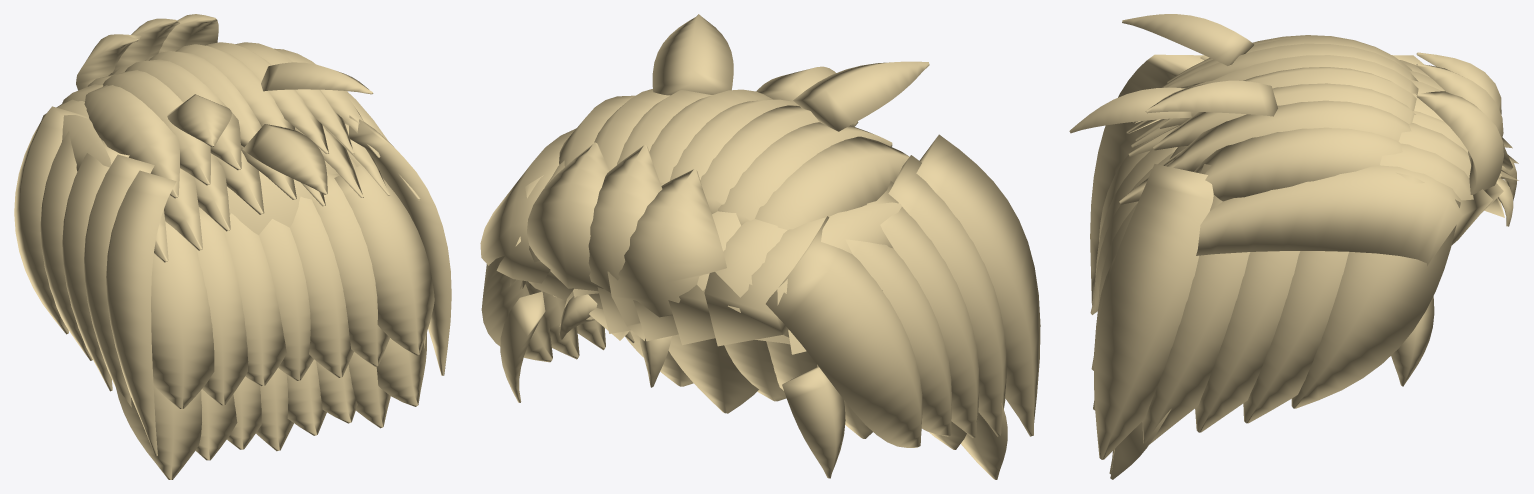
The model's file is rhyman_hair.fbx.
The picture shows the model from 3 angles, left to right: view 1: azimuth 30°, elevation 25°; view 2: azimuth 150°, elevation 25°; view 3: azimuth 270°, elevation 25°; orthographic projection. The views are drawn at different scales.
Parts seen in each view (by area): view 1: RhymanHair; view 2: RhymanHair; view 3: RhymanHair.
Part boxes in pixels (x1,y1,x2,y2): RhymanHair: (14,14,451,479); RhymanHair: (480,14,1040,479); RhymanHair: (1069,14,1518,479).
Bounding box in the file's own units: 181 × 178 × 190.
